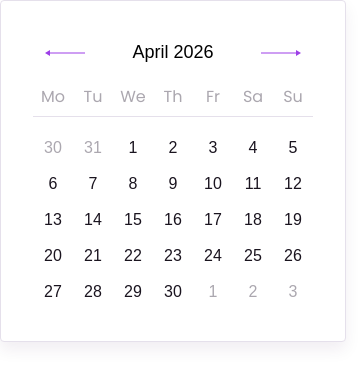
Test: calendar › thao tác › di chuyển › Nếu đang hiển thị bảng chọn ngày, click vào header sẽ chuyển sang bảng chọn tháng
Click the button with aria-label "Chọn tháng". click: (173, 53)
box: [124,33,222,73]
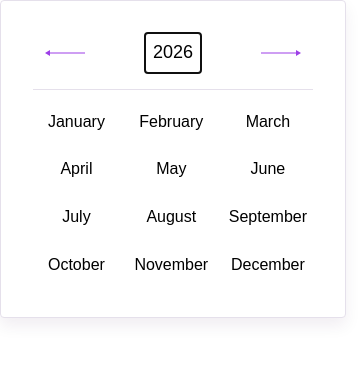
Now the button named "Chọn năm" is shown, box [145,33,201,73]
